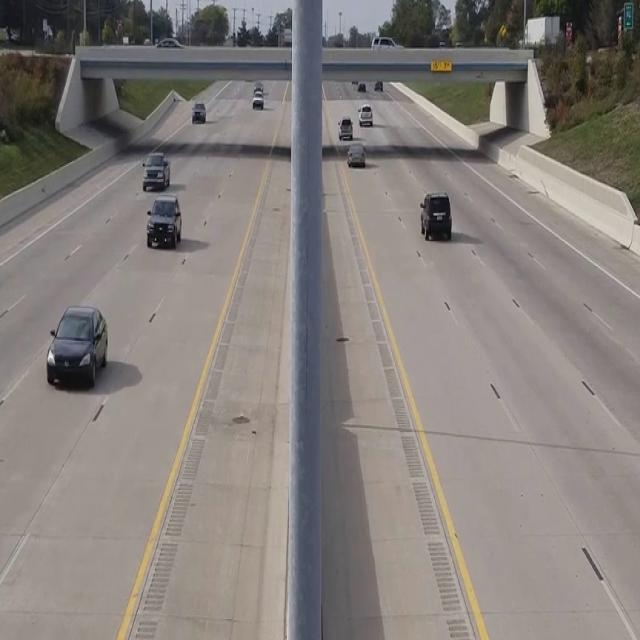car: (46, 304, 107, 386), (146, 195, 181, 247), (419, 191, 451, 241), (142, 151, 170, 191), (346, 142, 364, 166), (338, 117, 352, 140), (358, 104, 372, 125), (252, 86, 264, 108), (192, 102, 205, 122)
